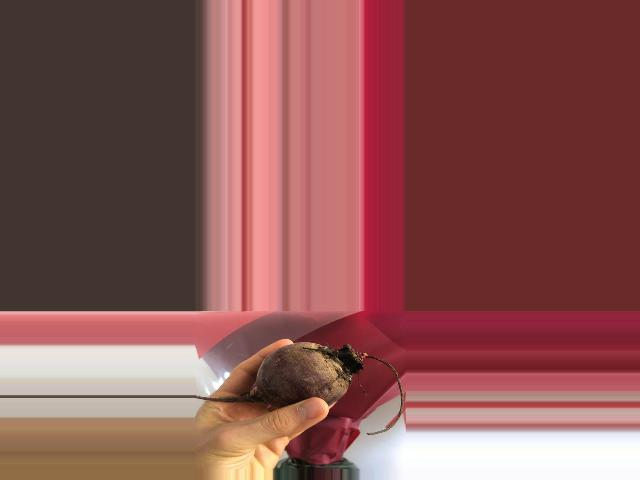beet: (195, 342, 404, 435)
